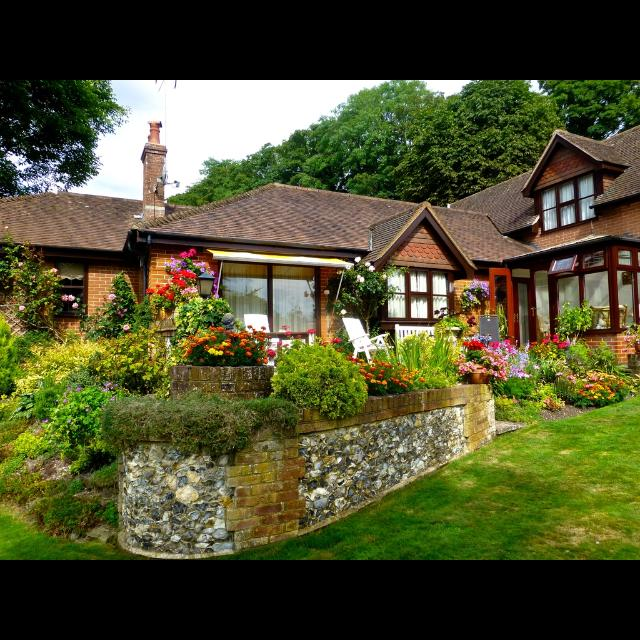Flower: (146, 248, 424, 388), (448, 332, 626, 403), (54, 382, 116, 422), (463, 280, 493, 306), (106, 294, 116, 300), (121, 324, 129, 330), (62, 294, 68, 300), (68, 294, 74, 300), (72, 302, 78, 308), (341, 308, 347, 314), (368, 265, 374, 271), (18, 305, 24, 309), (50, 267, 56, 271), (354, 258, 360, 262), (358, 276, 362, 282), (365, 260, 369, 266), (42, 418, 46, 422), (20, 262, 22, 266), (117, 310, 119, 312), (120, 298, 122, 300), (124, 310, 126, 310)
